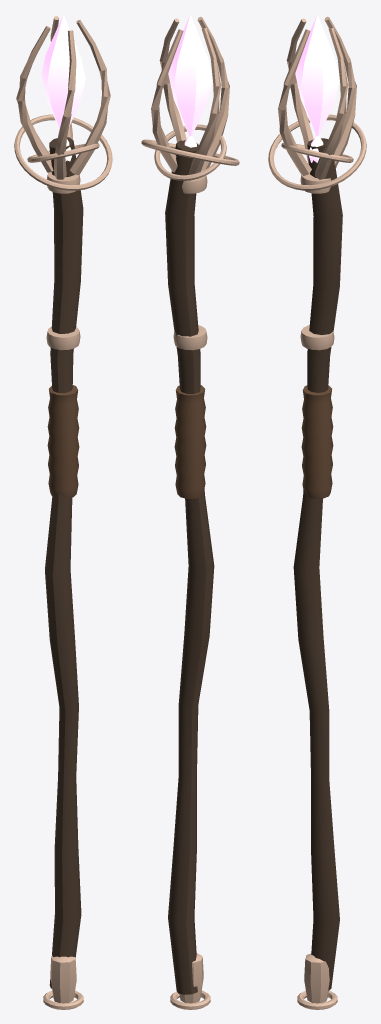
Rendered from asc_undying_seer_weapon.glb.
3 renders of one model, left to right at view 1: azimuth 30°, elevation 25°; view 2: azimuth 150°, elevation 25°; view 3: azimuth 330°, elevation 25°, orthographic.
Visible parts, largest first — view 1: asc_undying_seer_weapon; view 2: asc_undying_seer_weapon; view 3: asc_undying_seer_weapon.
Part boxes in pixels (bbox=[...]): asc_undying_seer_weapon: bbox=[14, 14, 112, 1009]; asc_undying_seer_weapon: bbox=[141, 14, 239, 1009]; asc_undying_seer_weapon: bbox=[268, 14, 366, 1009].
Bounding box in the file's own units: 0.1742 × 1.9 × 0.1597.
